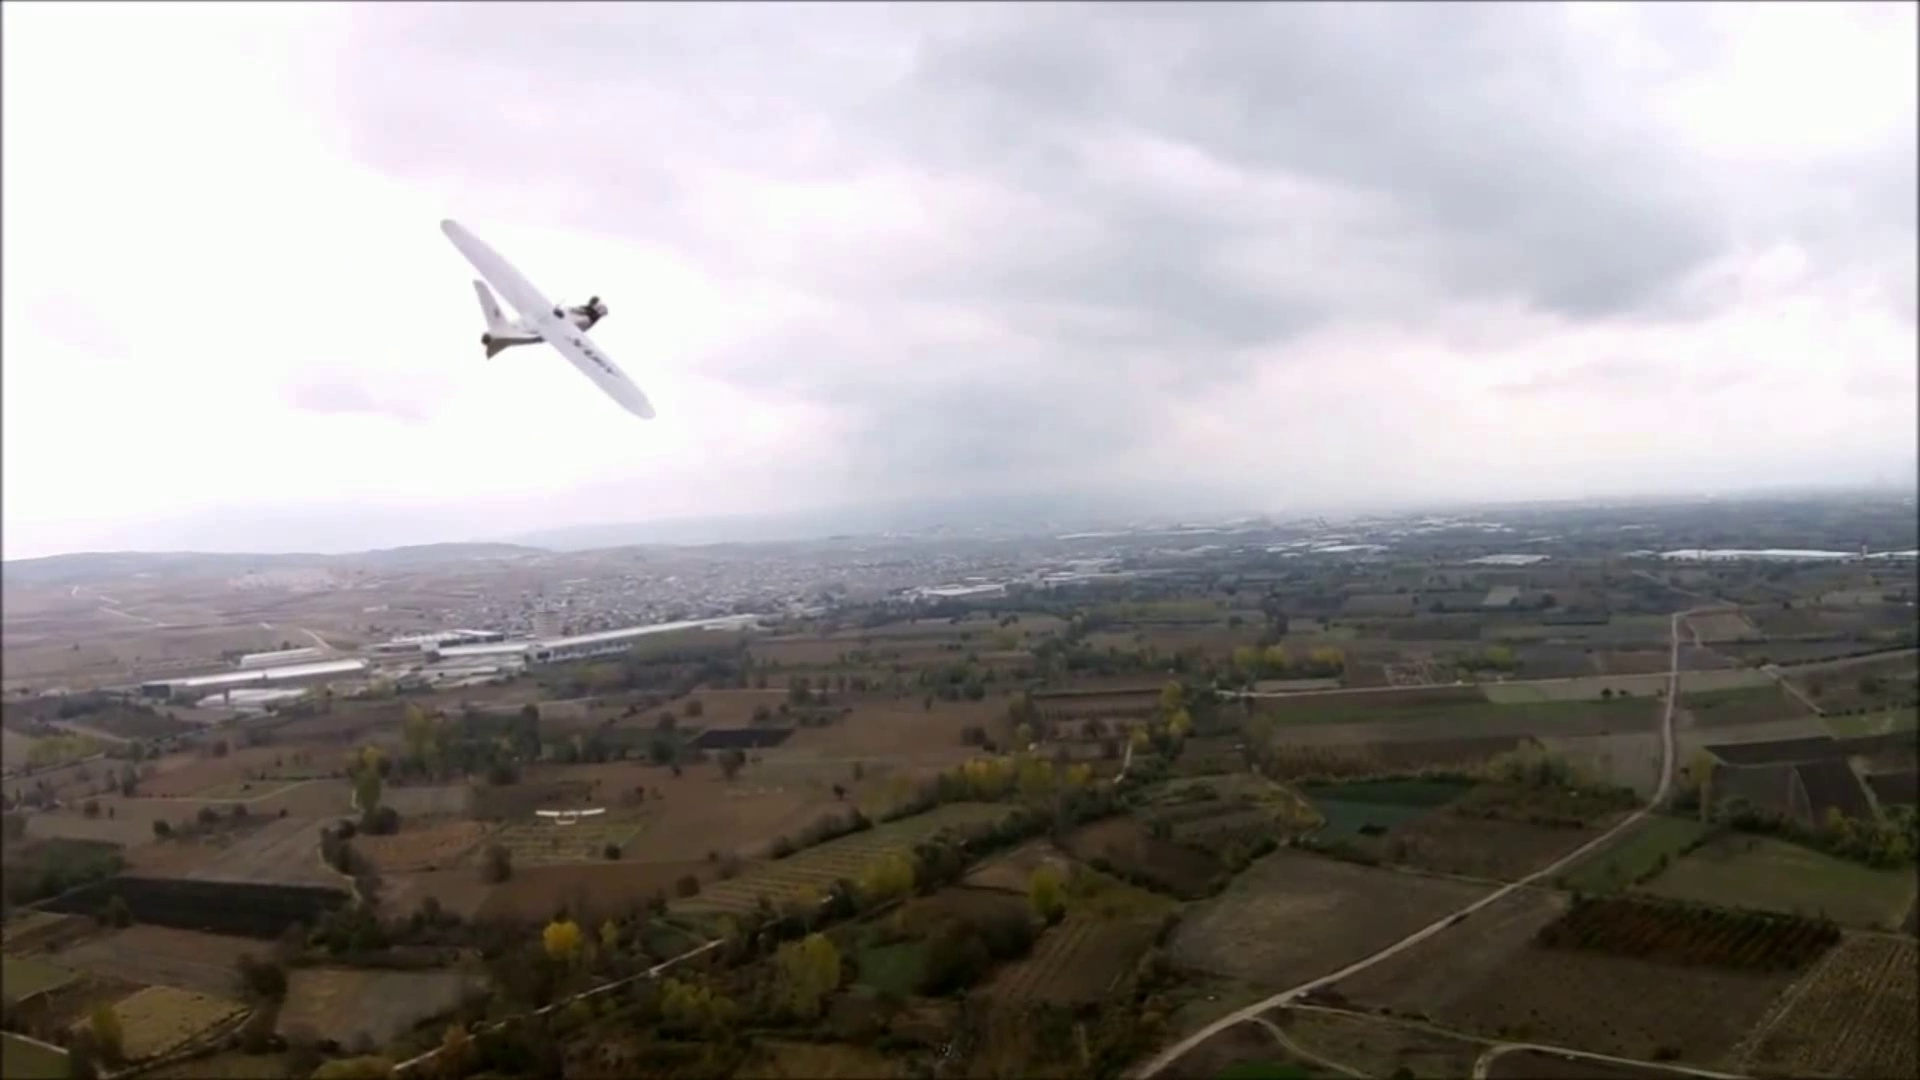airplane: (439, 216, 658, 420)
